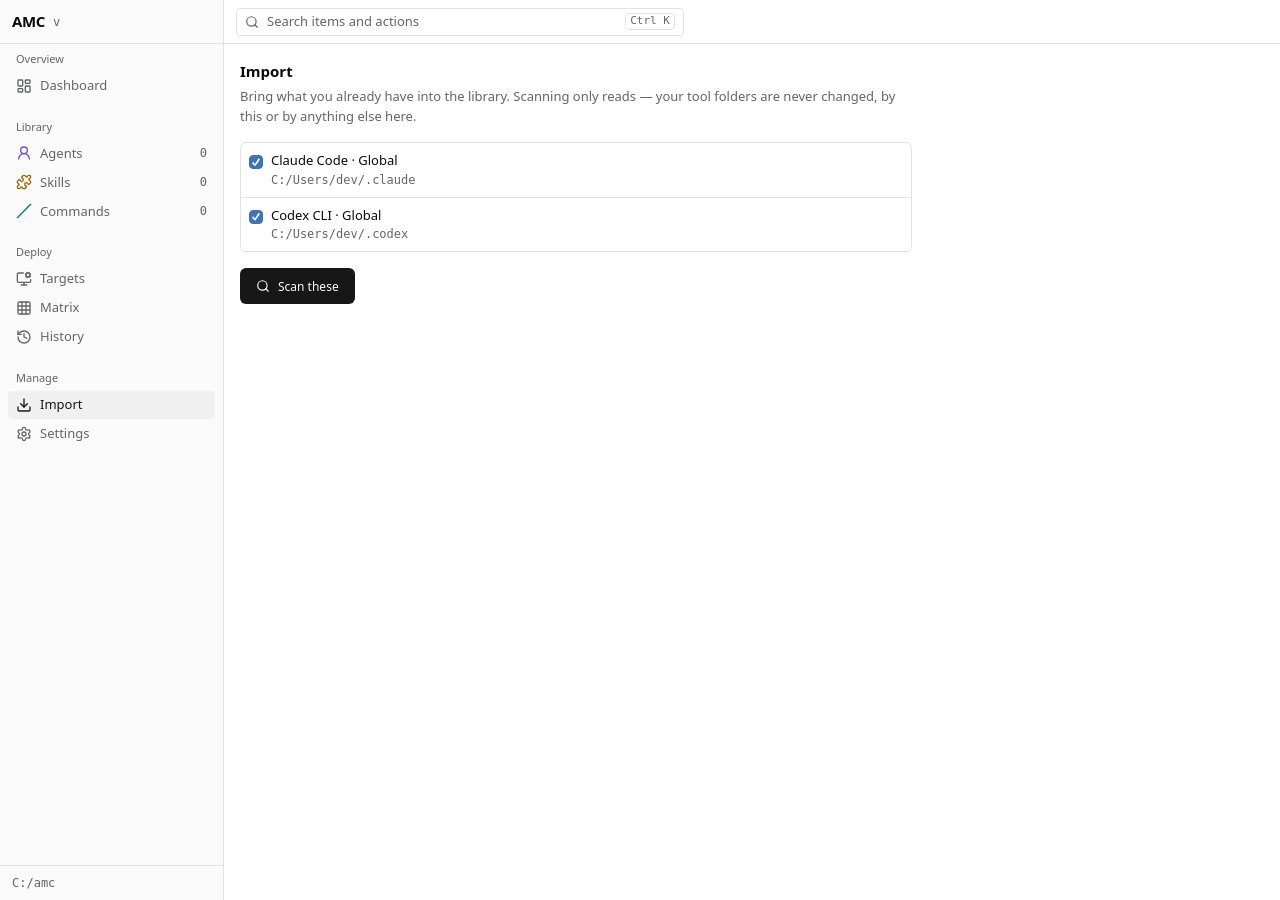
Test case: reviewing what was found (T1.8.2, T1.8.5) › can go back without importing anything
The width and height of the screenshot is (1280, 900).
Click the button "Scan these" at (297,286), box [240, 268, 355, 304]
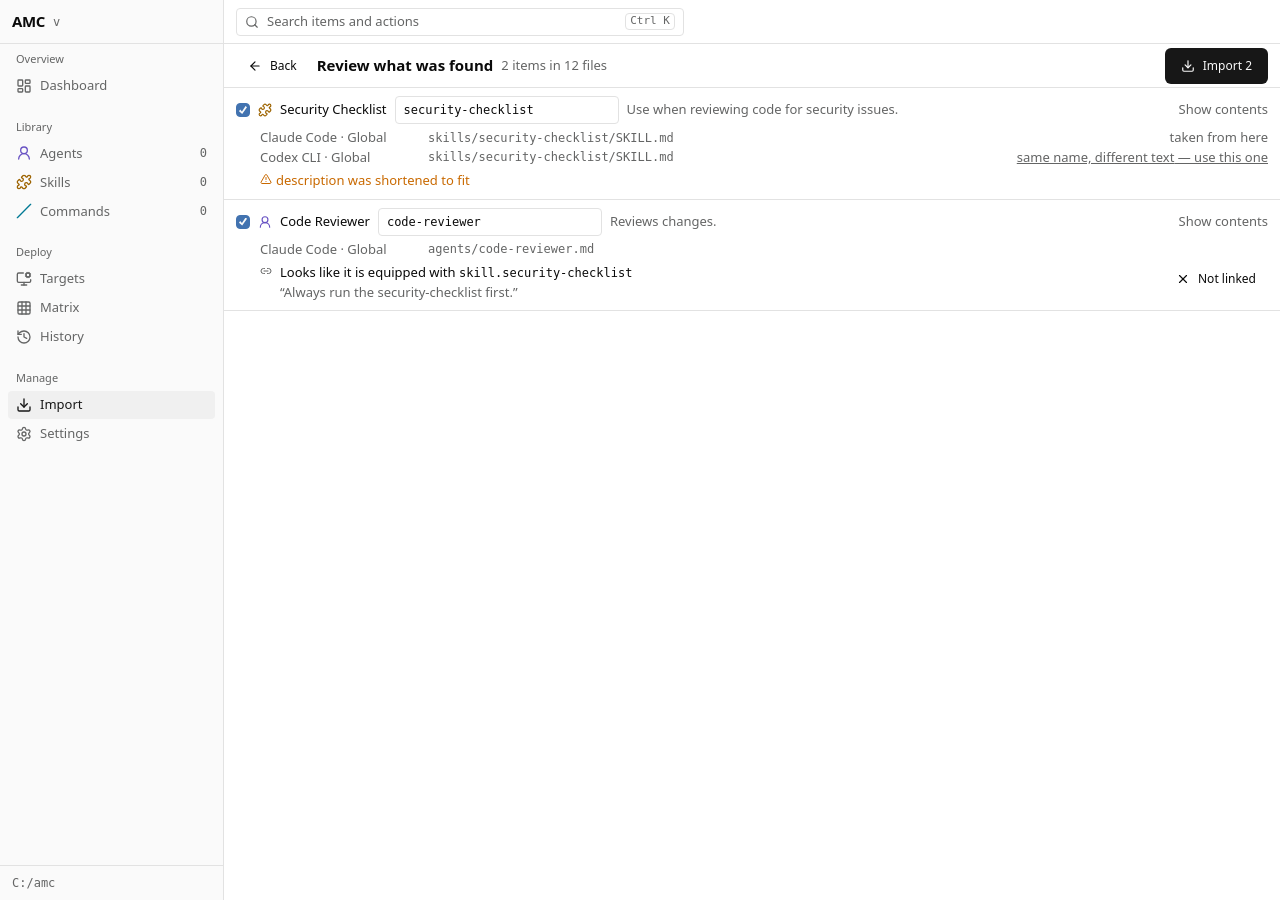
Click the button "Back" at (272,66), box [236, 50, 309, 82]
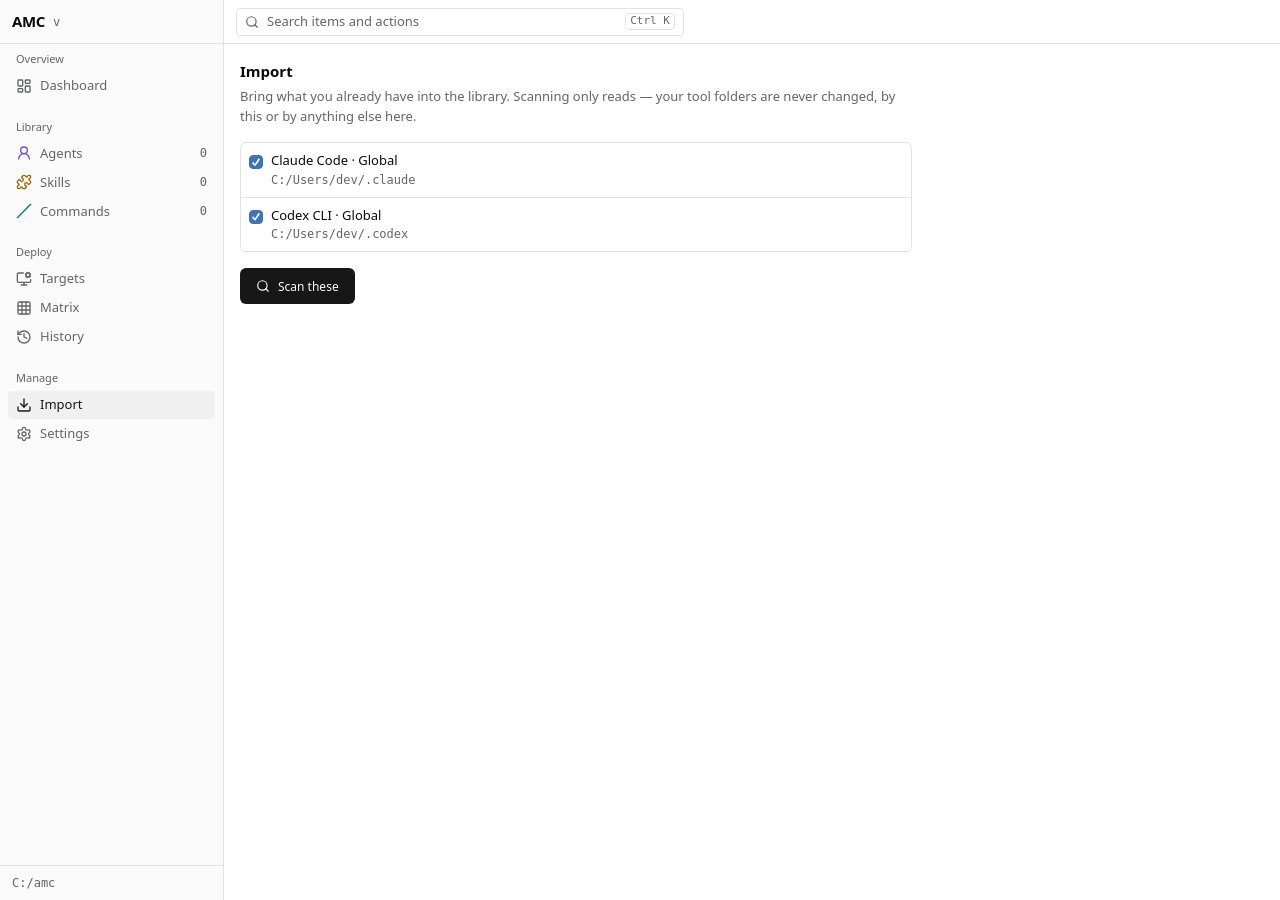
Result: the button "Scan these" is shown at [240, 268, 355, 304]
